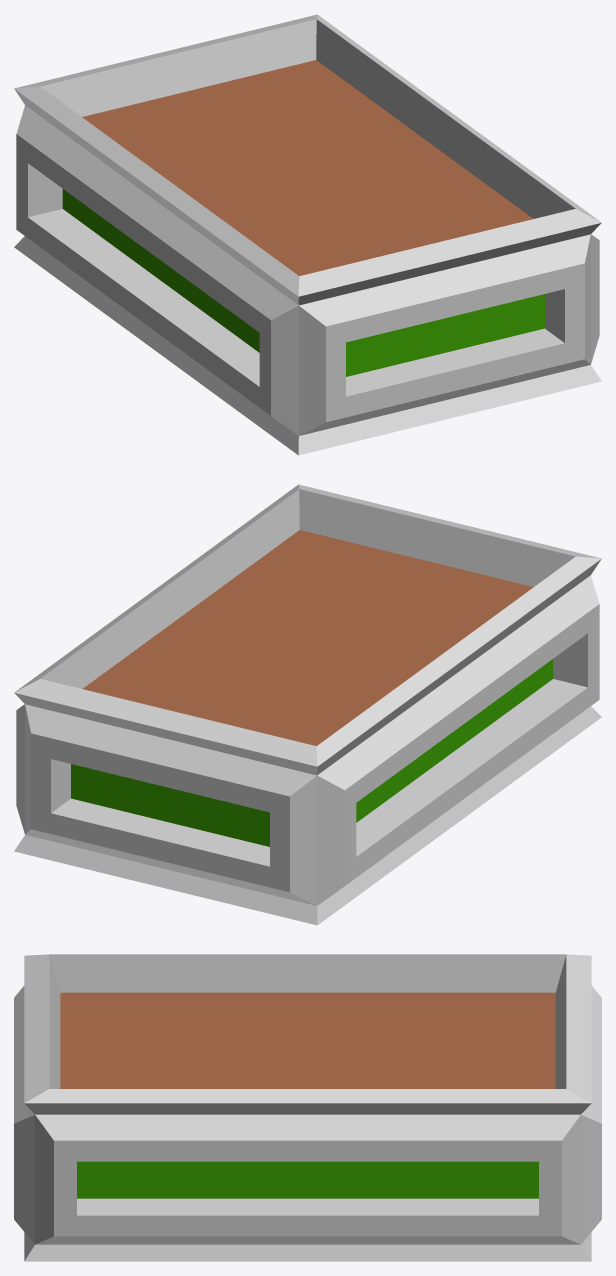
The model's file is SM_decor_plantbox.fbx.
The picture shows the model from 3 angles, top to bottom: view 1: azimuth 30°, elevation 25°; view 2: azimuth 150°, elevation 25°; view 3: azimuth 270°, elevation 25°; orthographic projection.
Parts seen in each view (by area): view 1: pCube19; view 2: pCube19; view 3: pCube19.
Part boxes in pixels (bbox=[...]): pCube19: bbox=[14, 14, 601, 455]; pCube19: bbox=[14, 484, 601, 925]; pCube19: bbox=[14, 954, 601, 1261].
Bounding box in the file's own units: 19.81 × 9.61 × 30.8.
